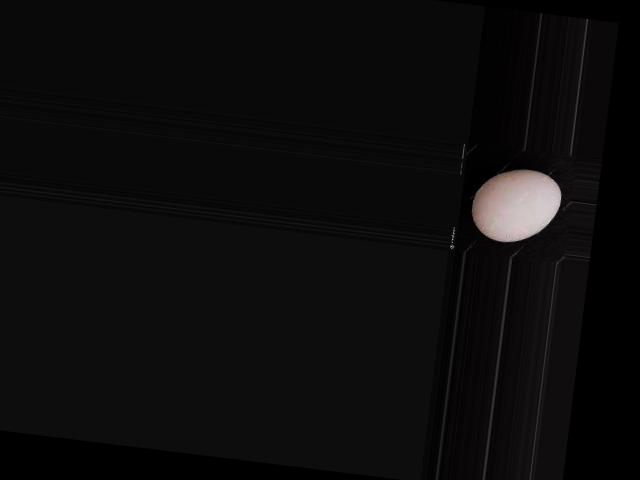egg: (468, 163, 563, 248)
